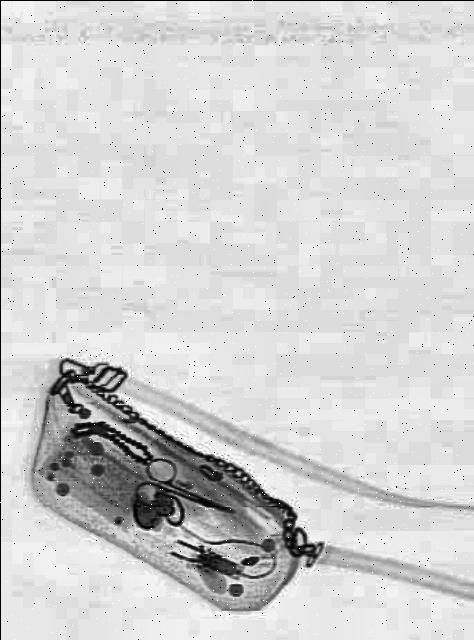Scissors: (133, 446, 241, 536)
